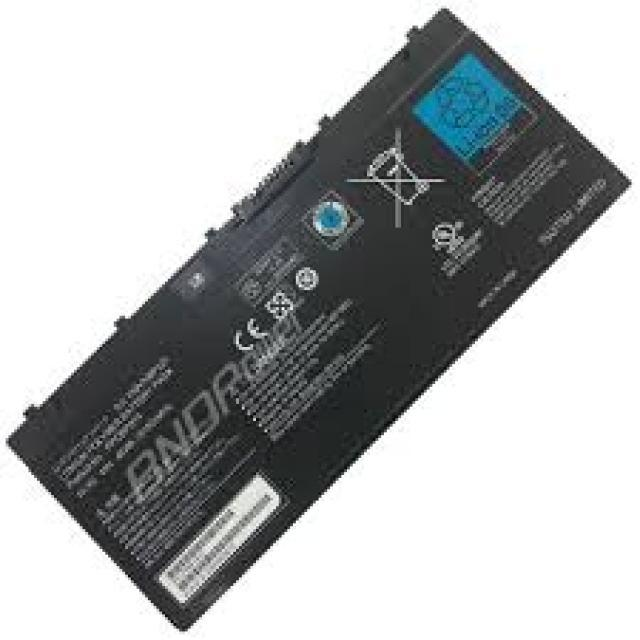battery: (7, 10, 640, 633)
